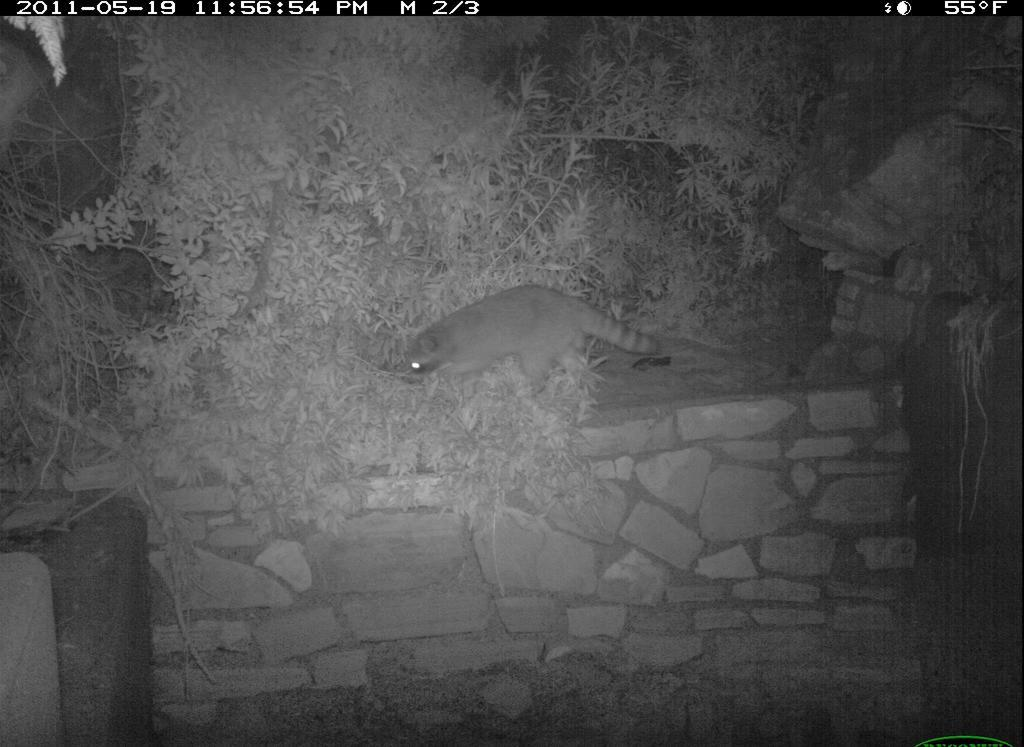raccoon: (373, 278, 671, 406)
